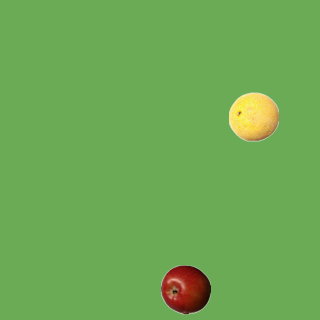Apple Braeburn: (160, 264, 210, 314)
Cantaloupe 1: (228, 91, 278, 141)
